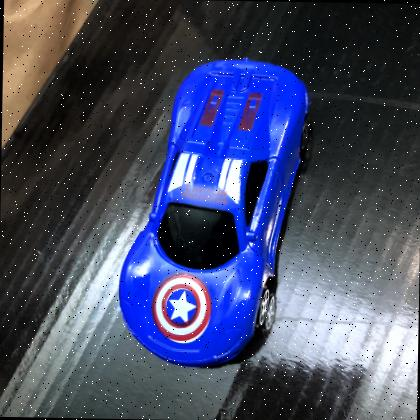Car: (117, 59, 310, 368)
